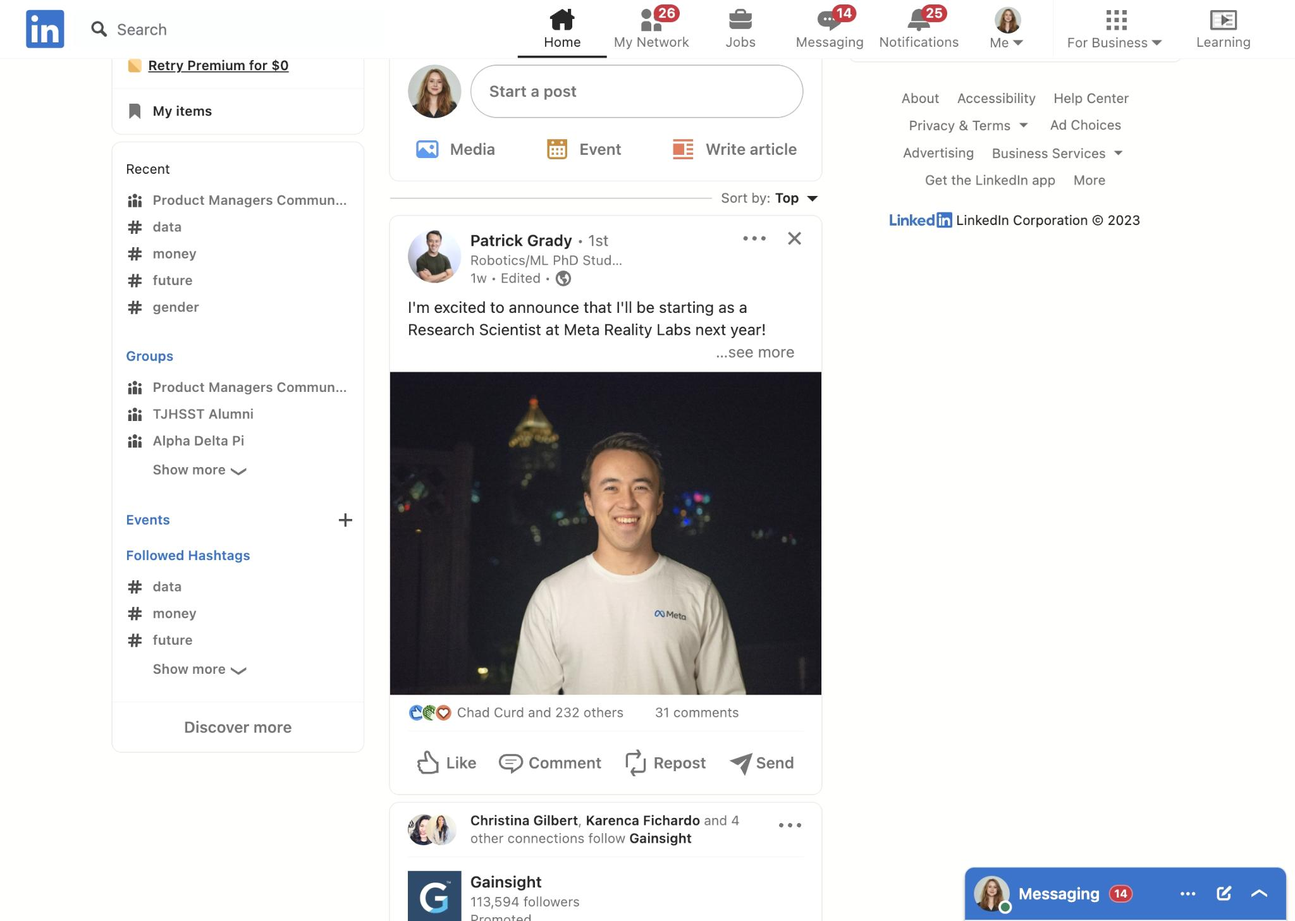webelement: (389, 371, 820, 694), (407, 297, 790, 560), (847, 84, 1181, 229), (517, 0, 1267, 57), (112, 6, 362, 87), (469, 64, 802, 117), (112, 701, 362, 751), (469, 870, 766, 910), (72, 9, 384, 46), (112, 87, 362, 133), (470, 229, 704, 268), (112, 150, 362, 186), (469, 812, 739, 845), (389, 188, 820, 206), (660, 121, 805, 174), (1052, 0, 1178, 57), (112, 456, 362, 484), (112, 655, 362, 683), (112, 213, 362, 240), (112, 266, 362, 293), (112, 293, 362, 320), (112, 400, 362, 427), (112, 599, 362, 626), (112, 626, 362, 653), (112, 186, 362, 212), (112, 240, 362, 266), (112, 374, 362, 400), (112, 427, 362, 453), (112, 573, 362, 599), (489, 736, 610, 789), (33, 8, 187, 44), (614, 736, 714, 789), (405, 121, 503, 174), (125, 342, 313, 369), (517, 0, 606, 57), (606, 0, 695, 57), (963, 0, 1052, 57), (1178, 0, 1267, 57), (469, 893, 766, 910), (534, 121, 629, 174), (696, 0, 784, 57), (785, 0, 873, 57), (874, 0, 962, 57), (125, 506, 317, 532), (125, 542, 313, 568), (719, 736, 802, 789), (407, 703, 649, 721), (470, 251, 704, 269), (407, 736, 485, 789), (512, 809, 696, 831), (125, 101, 349, 119), (470, 269, 704, 286), (223, 15, 396, 37), (469, 910, 766, 921), (874, 20, 995, 47), (407, 229, 460, 286), (704, 132, 795, 163), (407, 64, 460, 117), (407, 870, 460, 921), (51, 15, 169, 37), (991, 143, 1126, 162), (147, 56, 288, 73), (908, 115, 1032, 134), (527, 747, 601, 778), (924, 171, 1054, 188), (488, 79, 576, 103), (614, 750, 714, 771), (21, 6, 67, 51), (1216, 4, 1260, 48), (705, 340, 793, 362), (469, 231, 572, 249), (416, 747, 475, 778), (1066, 32, 1164, 50), (719, 750, 802, 771), (585, 812, 700, 827), (469, 812, 577, 827), (652, 747, 704, 778), (469, 269, 572, 284), (655, 703, 739, 721), (1017, 884, 1098, 902), (878, 32, 958, 50), (956, 88, 1035, 106), (449, 132, 494, 163), (613, 32, 688, 50), (1053, 88, 1128, 106), (322, 150, 358, 186), (322, 537, 358, 573), (587, 802, 623, 838), (973, 876, 1009, 912), (1169, 876, 1205, 912), (469, 873, 540, 891), (1049, 115, 1120, 133), (902, 143, 973, 161), (579, 132, 620, 163), (322, 338, 358, 373), (327, 501, 362, 537), (776, 219, 811, 255), (1205, 876, 1240, 912), (1241, 876, 1276, 912), (795, 32, 862, 50), (755, 747, 792, 778), (890, 210, 952, 226), (1196, 32, 1250, 50), (407, 813, 438, 844), (425, 813, 456, 844), (629, 830, 690, 845), (720, 188, 769, 206), (576, 229, 609, 251), (152, 299, 199, 314), (994, 6, 1021, 32), (776, 811, 802, 838), (740, 224, 766, 250), (988, 32, 1025, 50), (901, 88, 938, 106), (543, 32, 579, 50), (152, 245, 195, 260), (152, 604, 195, 619), (151, 272, 191, 287), (151, 631, 191, 646), (1072, 171, 1104, 188), (724, 32, 754, 50), (653, 3, 680, 21), (921, 3, 946, 21), (152, 219, 181, 234), (152, 577, 181, 592), (832, 3, 856, 21), (774, 188, 798, 206), (802, 188, 820, 206), (420, 703, 438, 721), (1178, 885, 1196, 903), (407, 703, 424, 721), (434, 703, 451, 721), (577, 812, 585, 827)
